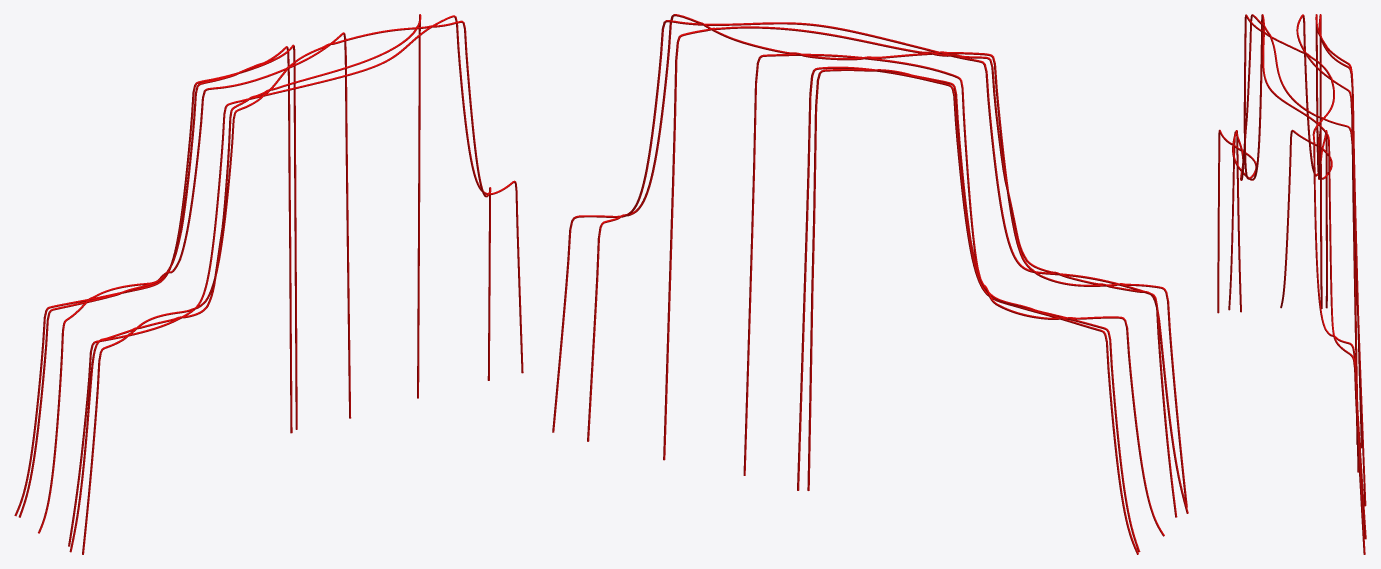
The model's file is Wire.fbx.
3 views of the same model, side by side, from view 1: azimuth 30°, elevation 25°; view 2: azimuth 150°, elevation 25°; view 3: azimuth 270°, elevation 25° (orthographic). The views are drawn at different scales.
Parts seen in each view (by area): view 1: Wire1; view 2: Wire1; view 3: Wire1.
Boxes of the visible parts, <box> form: Wire1: <box>14,14,523,554</box>; Wire1: <box>552,14,1188,554</box>; Wire1: <box>1217,14,1366,554</box>.
Size of the model in its own units: 171 by 122 by 43.57.
